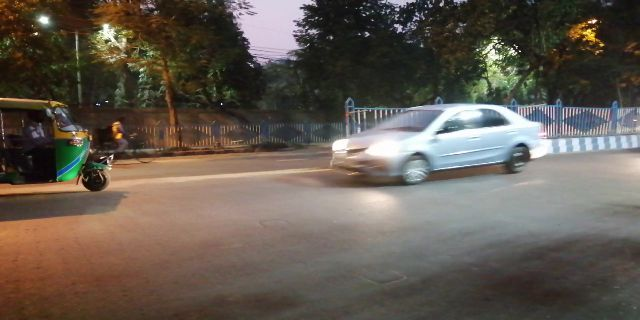Autorickshaw: (11, 96, 110, 193)
Car: (329, 107, 545, 181)
